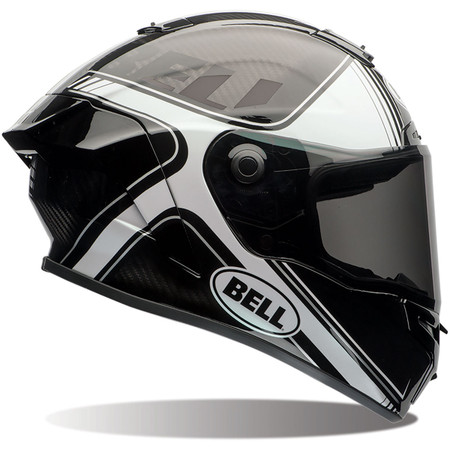with_helmet: (1, 6, 450, 428)
